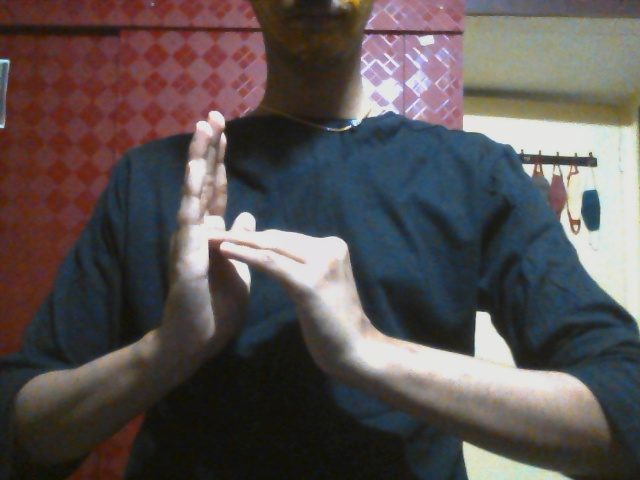Z: (158, 111, 374, 387)
